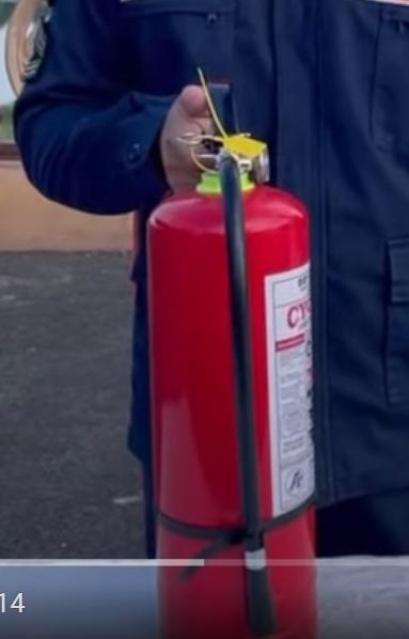APAR: (144, 138, 318, 556)
